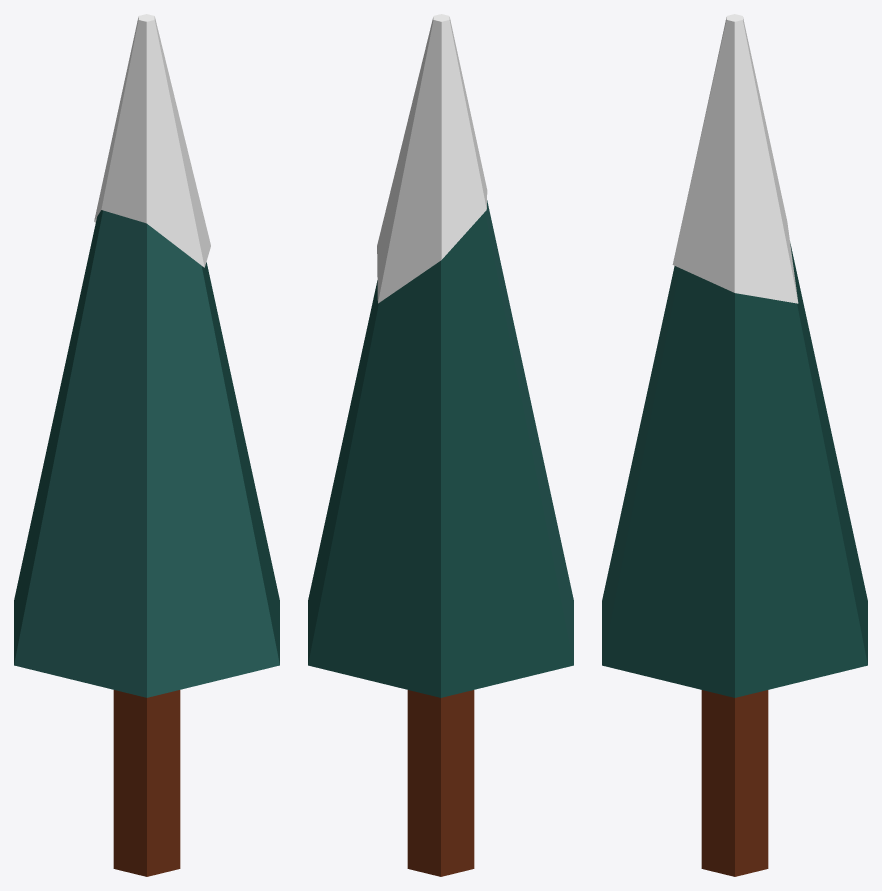
The model's file is tree2.fbx.
3 renders of one model, left to right at view 1: azimuth 30°, elevation 25°; view 2: azimuth 150°, elevation 25°; view 3: azimuth 270°, elevation 25°, orthographic.
Parts seen in each view (by area): view 1: tree2; view 2: tree2; view 3: tree2.
Boxes of the visible parts, box(x1,y1,x2,y2) form: tree2: box(14, 14, 279, 876); tree2: box(308, 14, 573, 876); tree2: box(602, 14, 867, 876).
Bounding box in the file's own units: 85.57 × 259 × 74.1.
